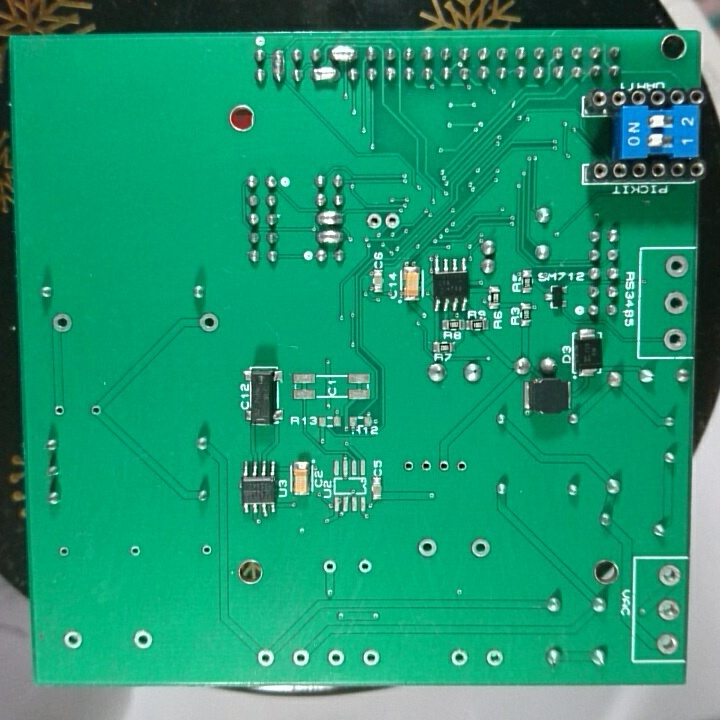F: (662, 253, 689, 282), (48, 310, 76, 337), (662, 326, 689, 353), (662, 289, 689, 316), (654, 632, 681, 658), (656, 562, 682, 589), (654, 598, 682, 623), (131, 626, 155, 654), (416, 535, 439, 562), (197, 310, 221, 334), (468, 536, 491, 560), (484, 646, 508, 669), (61, 629, 85, 651), (382, 209, 402, 235), (360, 647, 382, 669), (256, 647, 277, 669), (326, 647, 347, 669), (434, 456, 454, 479), (448, 647, 469, 668), (452, 456, 470, 480), (290, 647, 311, 667), (364, 211, 383, 231), (321, 557, 339, 578), (355, 557, 375, 575), (417, 458, 434, 478), (197, 541, 214, 559), (400, 458, 417, 476), (56, 543, 72, 560), (88, 402, 103, 418), (51, 403, 66, 419), (128, 543, 142, 560)
P: (313, 226, 348, 246), (313, 209, 348, 227), (328, 43, 358, 64), (270, 46, 286, 83), (309, 66, 339, 85)
